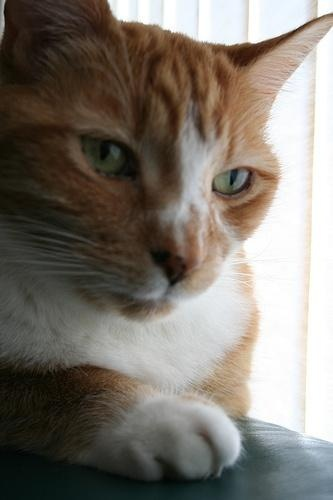cat: (1, 1, 333, 482)
